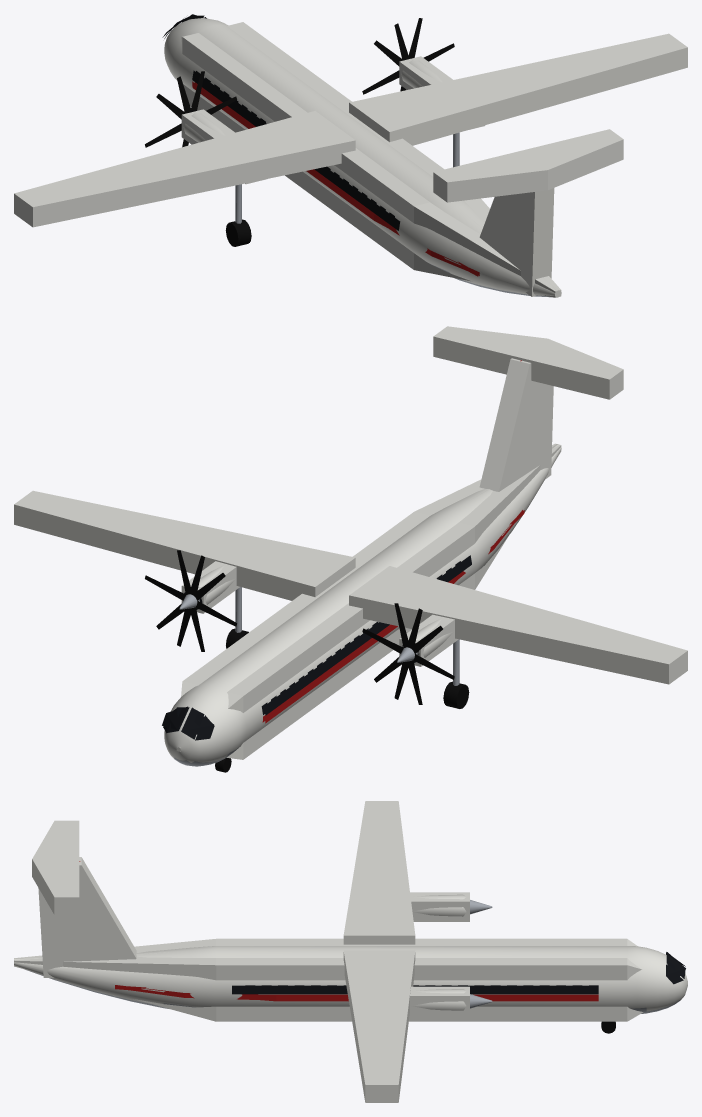
Rendered from bne_ac_turboprop_red.dae.
3 views of the same model, one above another, from view 1: azimuth 30°, elevation 25°; view 2: azimuth 150°, elevation 25°; view 3: azimuth 270°, elevation 25° (orthographic). The views are drawn at different scales.
Visible parts, largest first — view 1: Colmesh_bne_ac_turboprop_red-1, bne_ac_turboprop_red160, bne_ac_turboprop_red16; view 2: Colmesh_bne_ac_turboprop_red-1, bne_ac_turboprop_red160, bne_ac_turboprop_red16; view 3: Colmesh_bne_ac_turboprop_red-1, bne_ac_turboprop_red160, bne_ac_turboprop_red16.
Boxes of the visible parts, x1=… form: Colmesh_bne_ac_turboprop_red-1: x1=14, y1=22, x2=687, y2=297; bne_ac_turboprop_red160: x1=14, y1=15, x2=561, y2=297; bne_ac_turboprop_red16: x1=162, y1=14, x2=559, y2=296; Colmesh_bne_ac_turboprop_red-1: x1=14, y1=326, x2=687, y2=759; bne_ac_turboprop_red160: x1=145, y1=360, x2=686, y2=772; bne_ac_turboprop_red16: x1=162, y1=444, x2=557, y2=771; Colmesh_bne_ac_turboprop_red-1: x1=14, y1=801, x2=643, y2=1102; bne_ac_turboprop_red160: x1=14, y1=861, x2=687, y2=1095; bne_ac_turboprop_red16: x1=15, y1=903, x2=685, y2=1033.
Size of the model in its own units: 27.1 by 27.2 by 7.7.
